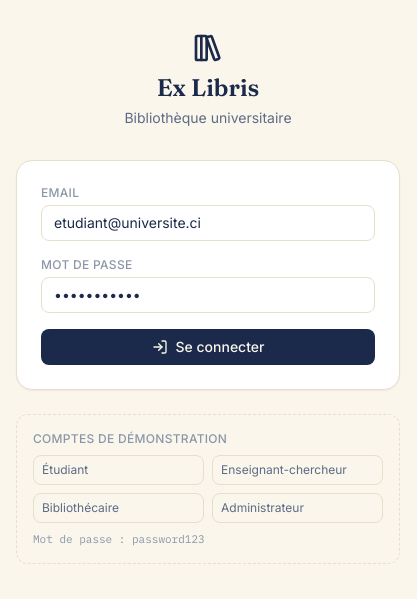
it: Login › affiche un message d'erreur si la connexion échoue
Click the button "Se connecter". click: {"x": 208, "y": 347}
box: [41,329,375,365]
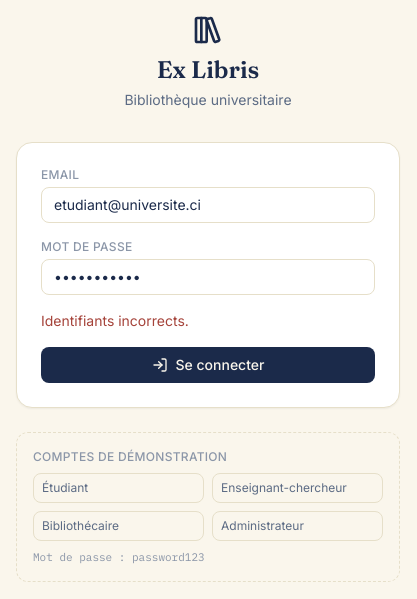
expect the text "Identifiants incorrects." is shown: met, box [41,312,189,329]
